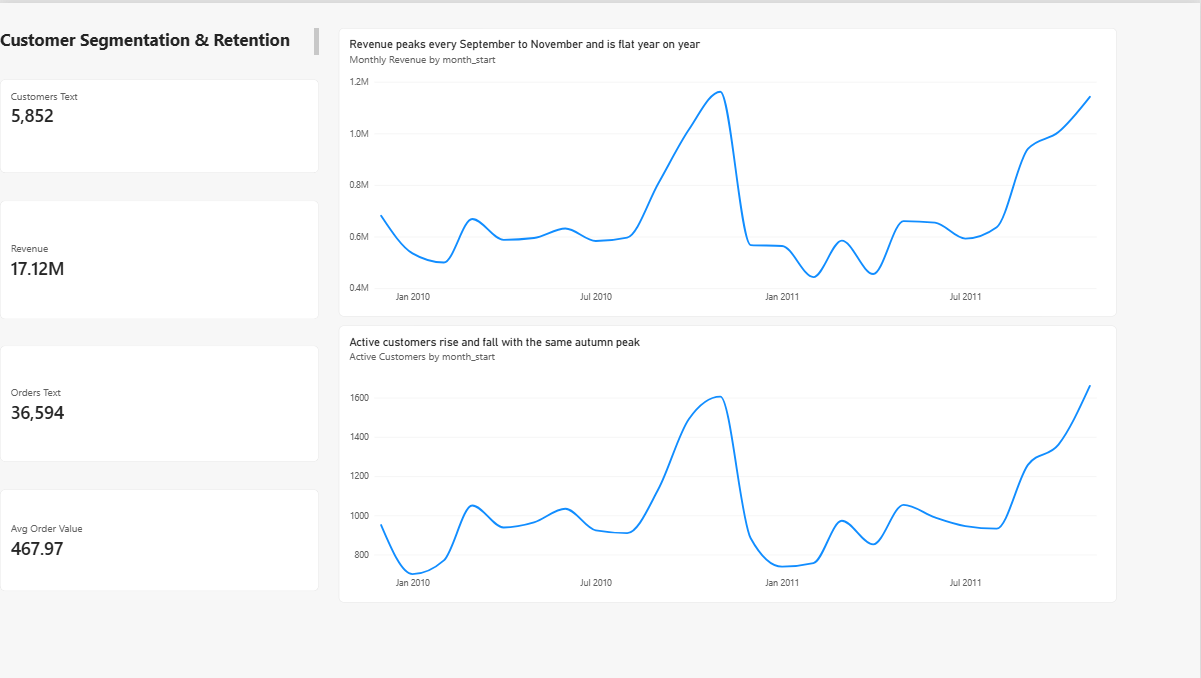

This screenshot's page, from the dashboard's own definition file:
{"tool":"powerbi","page":{"name":"Overview","canvas":[1920,1080],"ordinal":0},"visuals":[{"type":"textbox","box":[0,40,510,48.3],"z":2},{"type":"cardVisual","fields":{"Data":["rfm_customers.Customers Text"]},"box":[0,121.7,510,150],"z":3},{"type":"lineChart","title":"Revenue peaks every September to November and is flat year on year","fields":{"Category":["monthly.month_start"],"Y":["monthly.Monthly Revenue"]},"box":[541.7,40,1245,461.7],"z":8},{"type":"cardVisual","fields":{"Data":["rfm_customers.Revenue"]},"box":[0,315,510,190],"z":9},{"type":"cardVisual","fields":{"Data":["rfm_customers.Orders Text"]},"box":[0,548.3,510,186.7],"z":10},{"type":"cardVisual","fields":{"Data":["rfm_customers.Avg Order Value"]},"box":[0,778.3,510,163.3],"z":11},{"type":"lineChart","title":"Active customers rise and fall with the same autumn peak","fields":{"Category":["monthly.month_start"],"Y":["monthly.Active Customers"]},"box":[541.7,516.7,1245,443.3],"z":12}]}

Visuals, with their boxes in screenshot pixels (x1, y1, x2, y2), scaled from the page's 1920x1080 canvas onto the 1201x678 screenshot:
textbox: l=0, t=25, r=319, b=55
cardVisual - rfm_customers.Customers Text: l=0, t=76, r=319, b=171
"Revenue peaks every September to November and is flat year on year" lineChart: l=339, t=25, r=1118, b=315
cardVisual - rfm_customers.Revenue: l=0, t=198, r=319, b=317
cardVisual - rfm_customers.Orders Text: l=0, t=344, r=319, b=461
cardVisual - rfm_customers.Avg Order Value: l=0, t=489, r=319, b=591
"Active customers rise and fall with the same autumn peak" lineChart: l=339, t=324, r=1118, b=603
